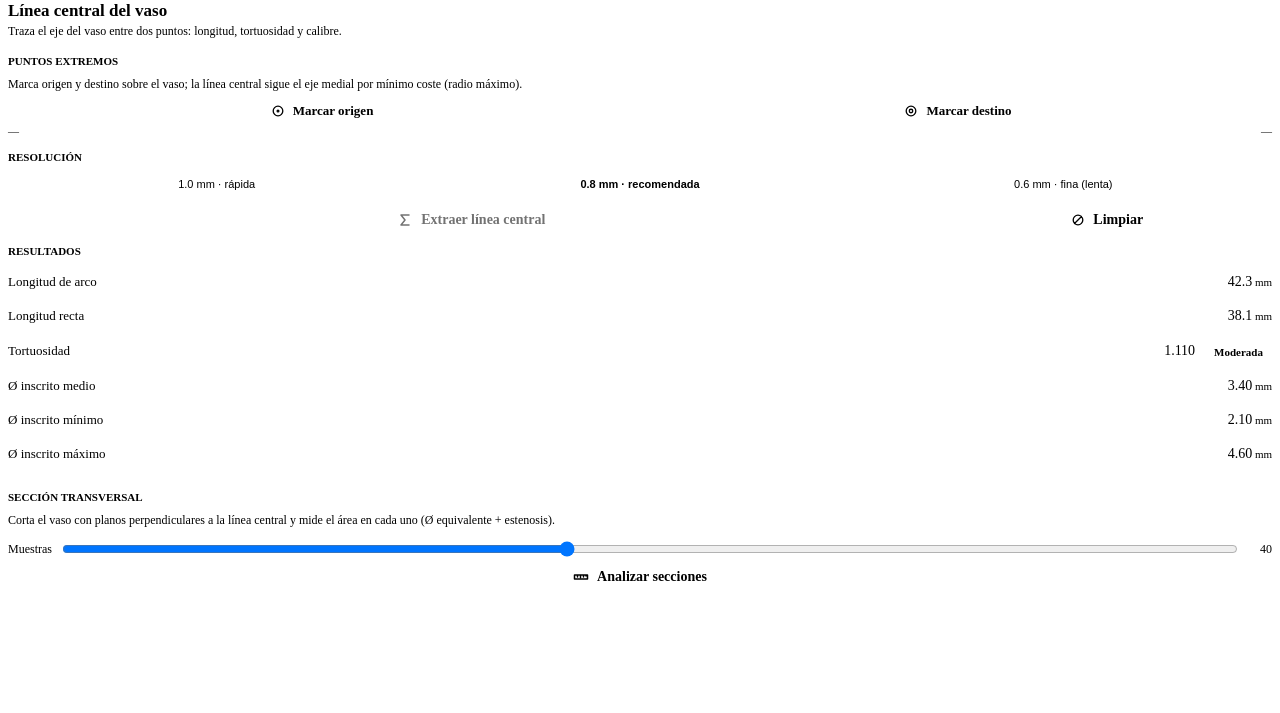
los rótulos de la línea central y de las secciones › los dos juegos tienen rótulos distintos
The width and height of the screenshot is (1280, 713).
Check: the text "Ø inscrito medio" is shown, box [8,378,95,394]
Check: the text "Ø inscrito mínimo" is shown, box [8,412,103,428]
Step 1. Click the button "Analizar secciones" → (640, 577), box [8,569,1272,585]
(page scrolled)
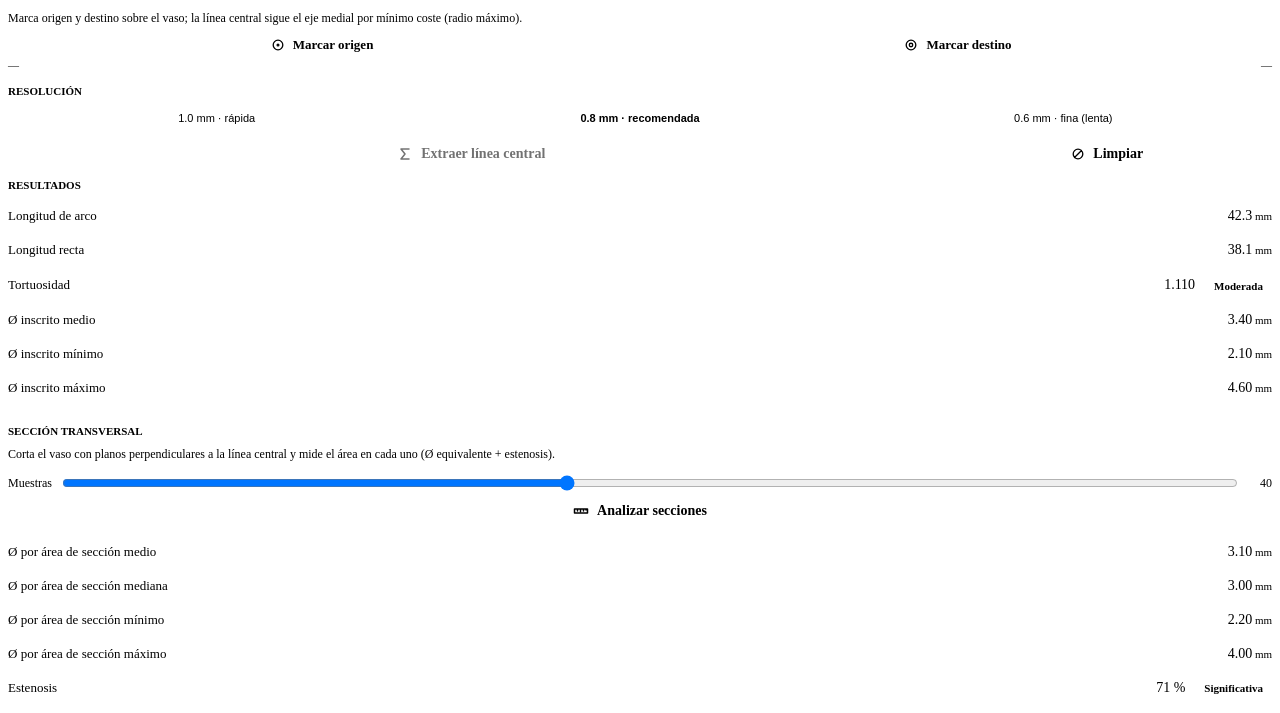
Check: the text "Ø por área de sección medio" is shown, box [8,544,156,560]
Check: the text "Ø por área de sección mediana" is shown, box [8,578,168,594]
Check: the text "Ø por área de sección mínimo" is shown, box [8,612,164,628]
